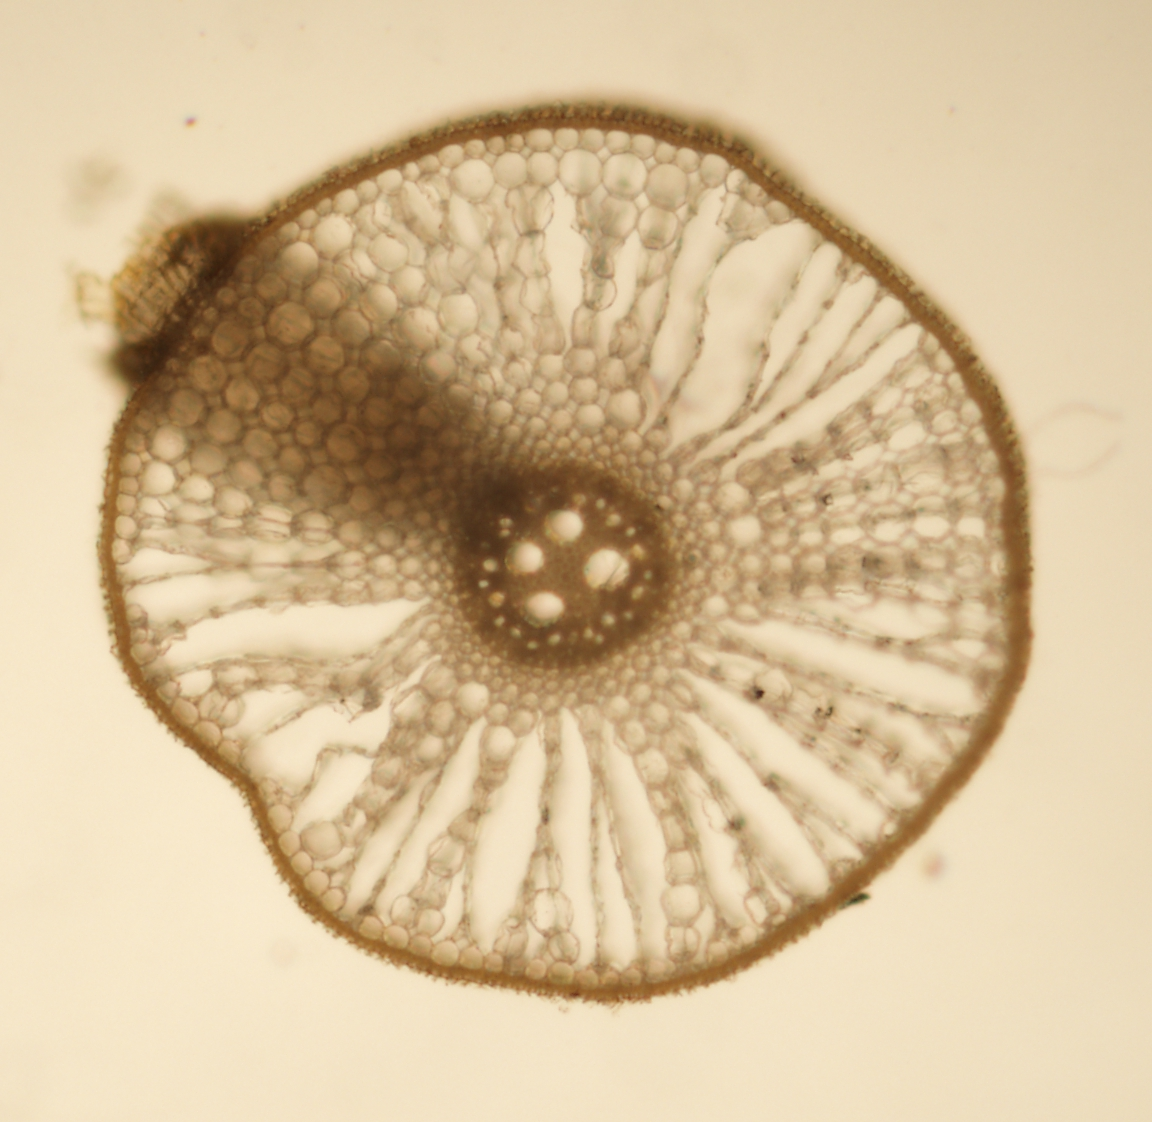lm: (583, 548, 629, 592), (521, 591, 565, 625), (544, 509, 584, 543), (505, 541, 544, 575)
